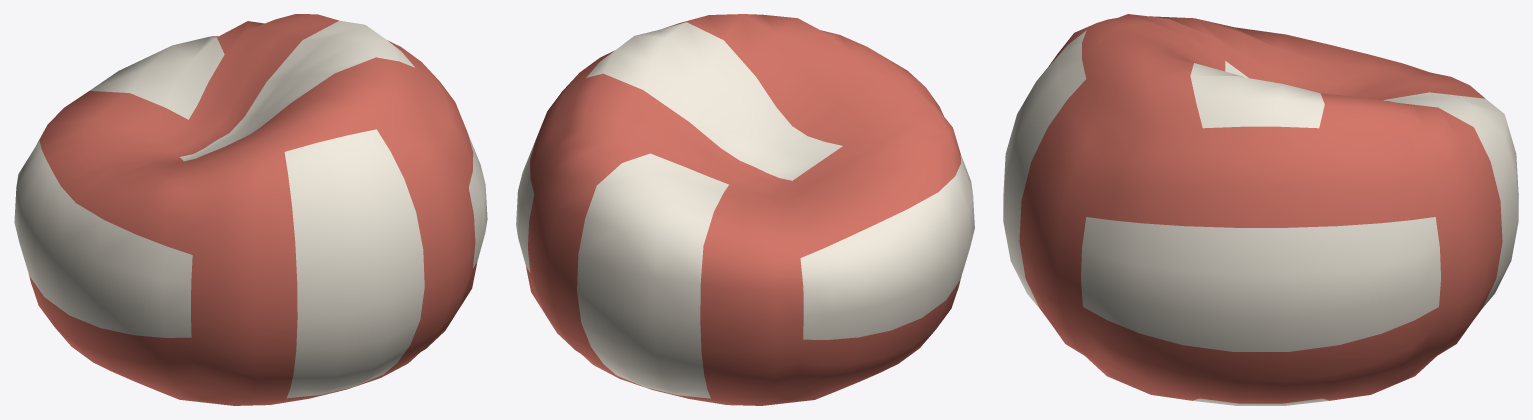
Rendered from junk_ball.glb.
3 views of the same model, side by side, from view 1: azimuth 30°, elevation 25°; view 2: azimuth 150°, elevation 25°; view 3: azimuth 270°, elevation 25° (orthographic). The views are drawn at different scales.
Parts seen in each view (by area): view 1: PART; view 2: PART; view 3: PART.
Part boxes in pixels (x1,y1,x2,y2): PART: (14, 14, 487, 405); PART: (516, 14, 974, 405); PART: (1003, 14, 1518, 405).
Bounding box in the file's own units: 0.2193 × 0.1496 × 0.2193.
